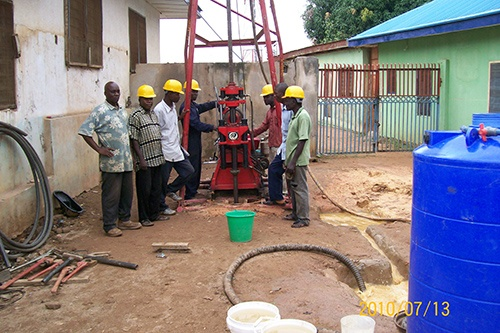none: (102, 80, 122, 105), (274, 81, 287, 102)
yellow: (283, 86, 305, 111), (136, 84, 156, 109), (163, 78, 182, 103), (184, 79, 200, 101), (260, 83, 274, 107)
